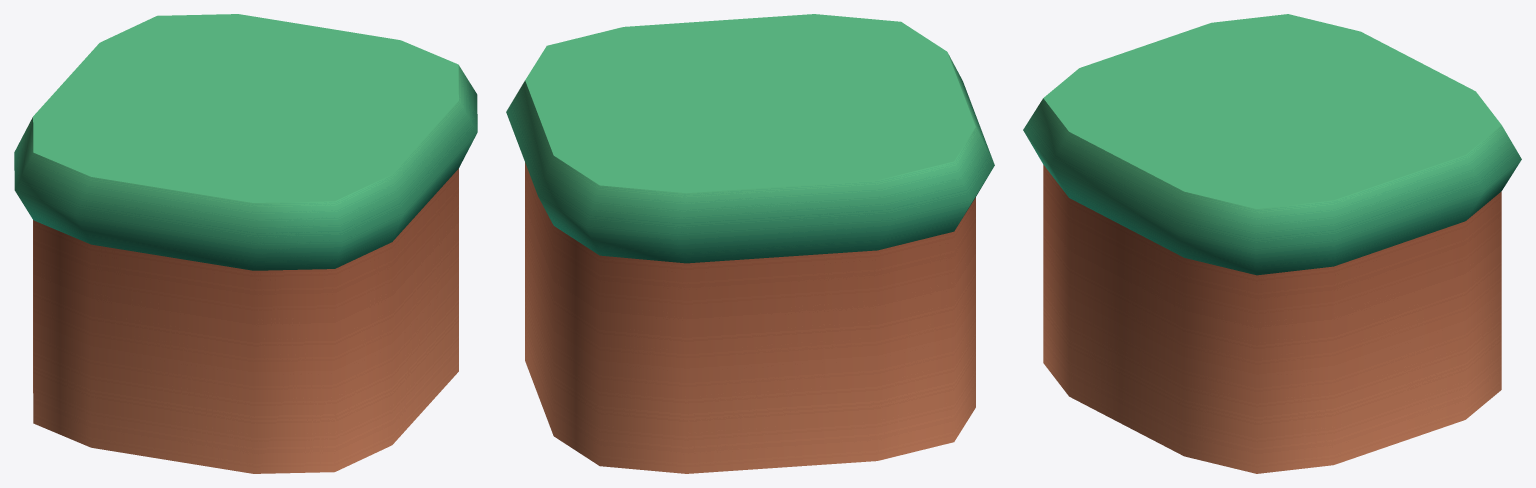
File: block-grass.010_lev2.glb
The picture shows the model from 3 angles, left to right: view 1: azimuth 30°, elevation 25°; view 2: azimuth 150°, elevation 25°; view 3: azimuth 270°, elevation 25°; orthographic projection. The views are drawn at different scales.
Visible parts, largest first — view 1: block-grass.010_lev2; view 2: block-grass.010_lev2; view 3: block-grass.010_lev2.
Boxes of the visible parts, left/top/right/bottom form: block-grass.010_lev2: left=14, top=14, right=477, bottom=473; block-grass.010_lev2: left=506, top=14, right=994, bottom=473; block-grass.010_lev2: left=1023, top=14, right=1521, bottom=473.
Bounding box in the file's own units: 7.51 × 4.37 × 7.45.
Materials: 1 (1 with a texture image).
